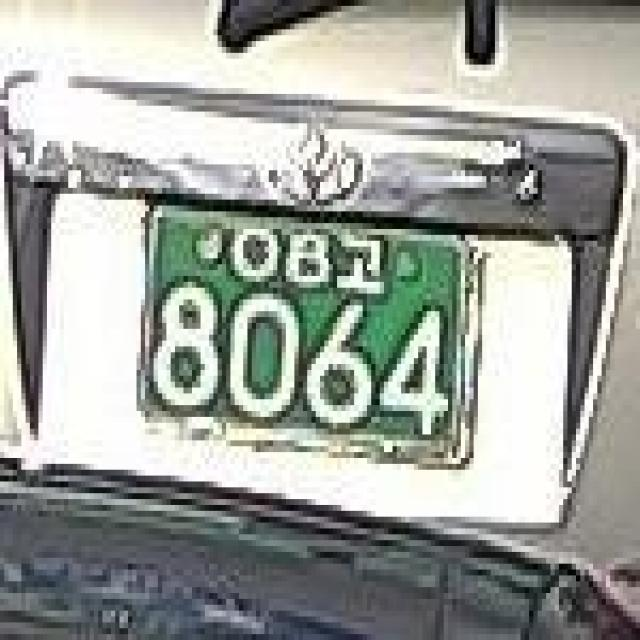illegal_plate: (129, 192, 490, 486)
